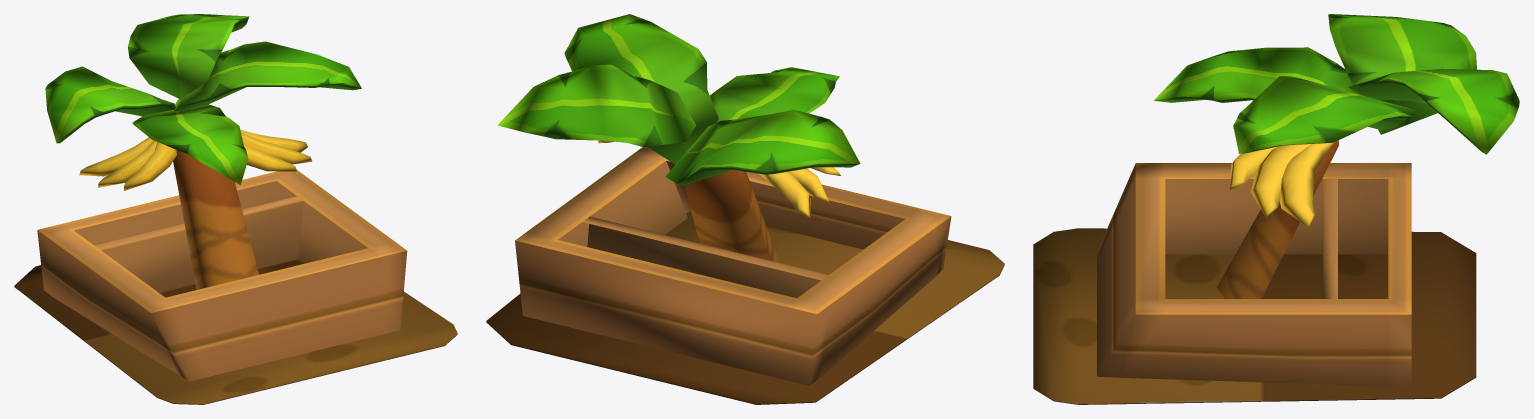
Rendered from Banana_Farm.fbx.
3 renders of one model, left to right at view 1: azimuth 30°, elevation 25°; view 2: azimuth 150°, elevation 25°; view 3: azimuth 270°, elevation 25°, orthographic. The views are drawn at different scales.
Parts seen in each view (by area): view 1: FlatSkin_BananaFarm_BananaFarm; view 2: FlatSkin_BananaFarm_BananaFarm; view 3: FlatSkin_BananaFarm_BananaFarm.
Boxes of the visible parts, box(x1,y1,x2,y2) form: FlatSkin_BananaFarm_BananaFarm: box(14, 14, 457, 404); FlatSkin_BananaFarm_BananaFarm: box(486, 14, 1004, 404); FlatSkin_BananaFarm_BananaFarm: box(1033, 14, 1519, 404).
Size of the model in its own units: 2591 by 1874 by 3037.
1 material, 1 textured.
